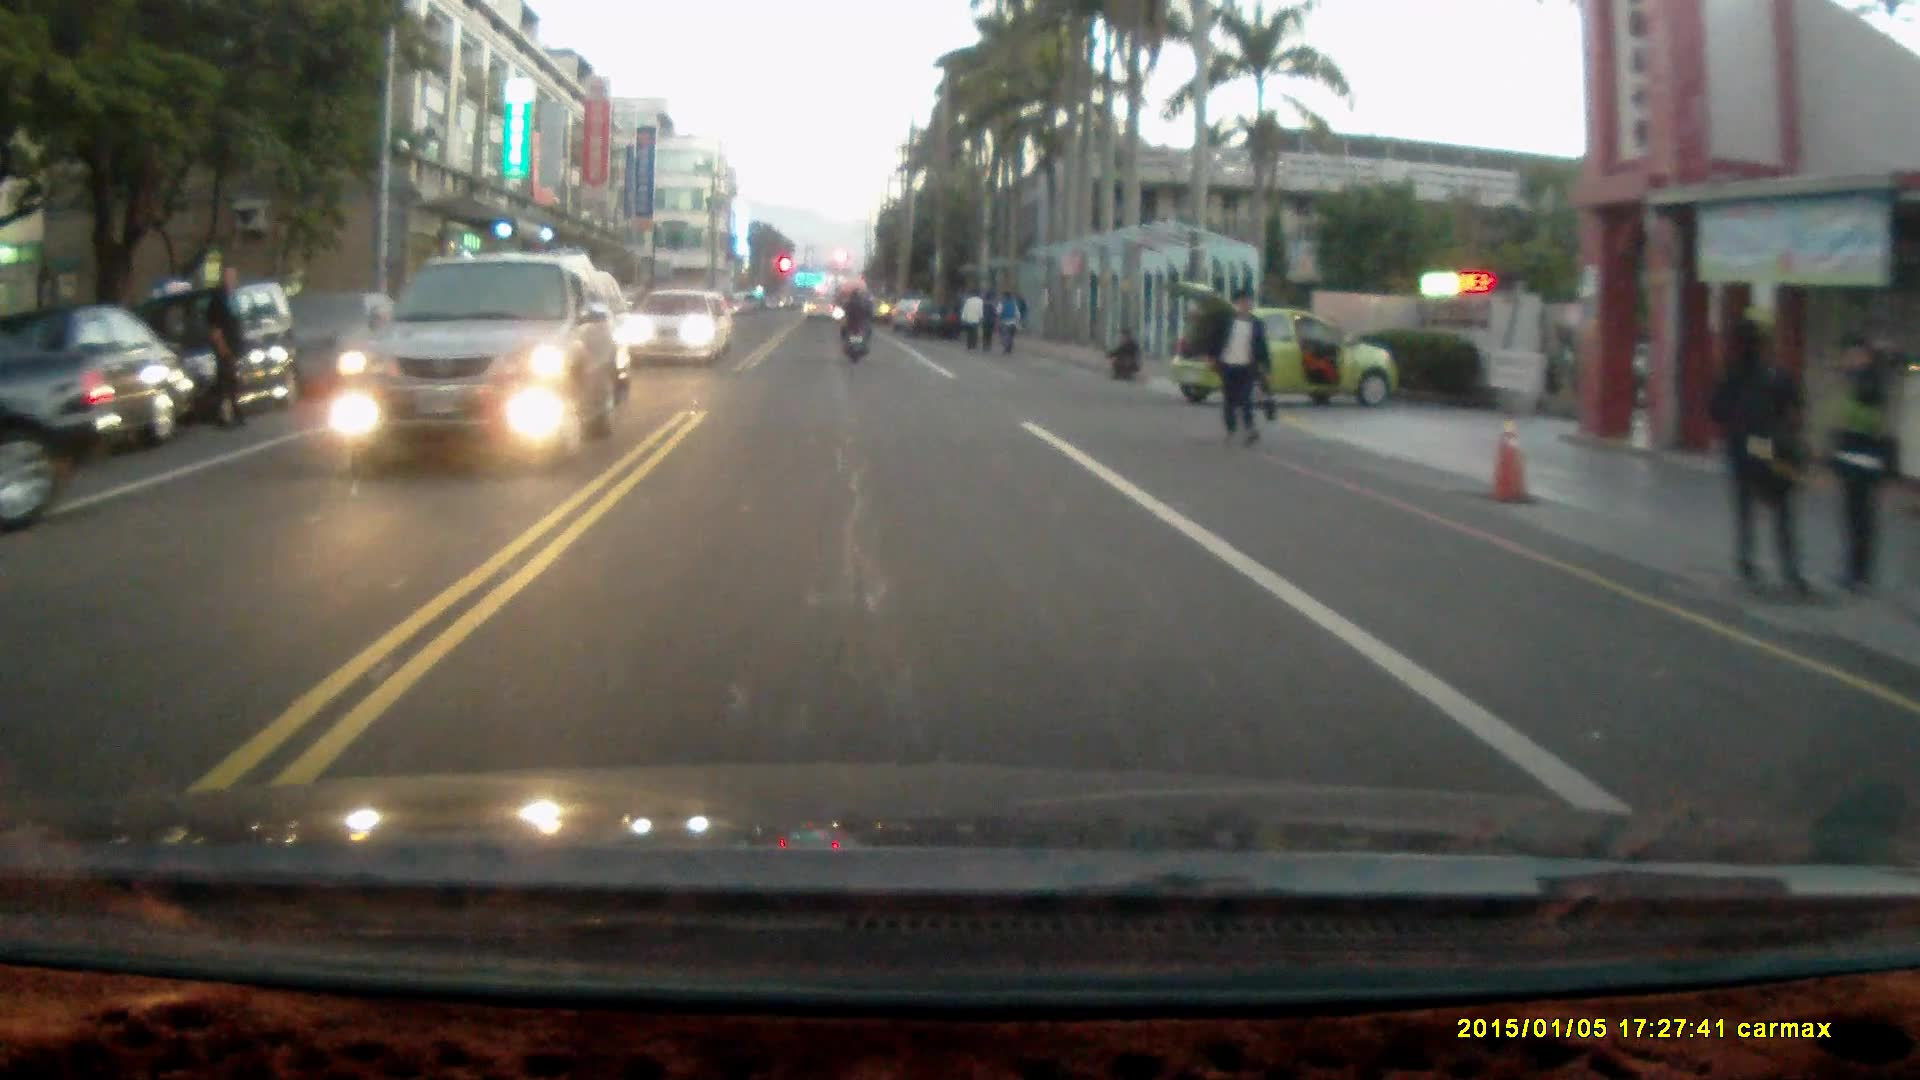pedestrian: (1705, 318, 1828, 614), (1829, 330, 1888, 600), (1207, 285, 1278, 454), (1105, 326, 1139, 384), (994, 287, 1020, 358), (963, 292, 986, 363), (979, 294, 1000, 360)
rider: (835, 289, 874, 368)
vehicle: (339, 257, 624, 465), (1170, 281, 1402, 414), (0, 311, 123, 536), (147, 284, 306, 428), (629, 294, 737, 372)
